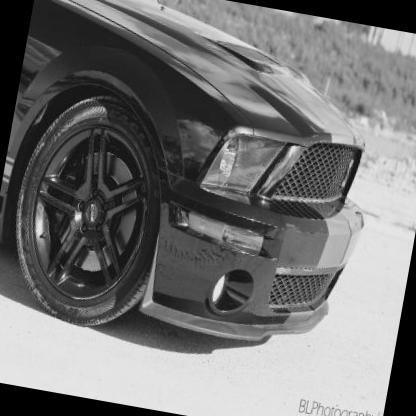car: (1, 1, 404, 384)
